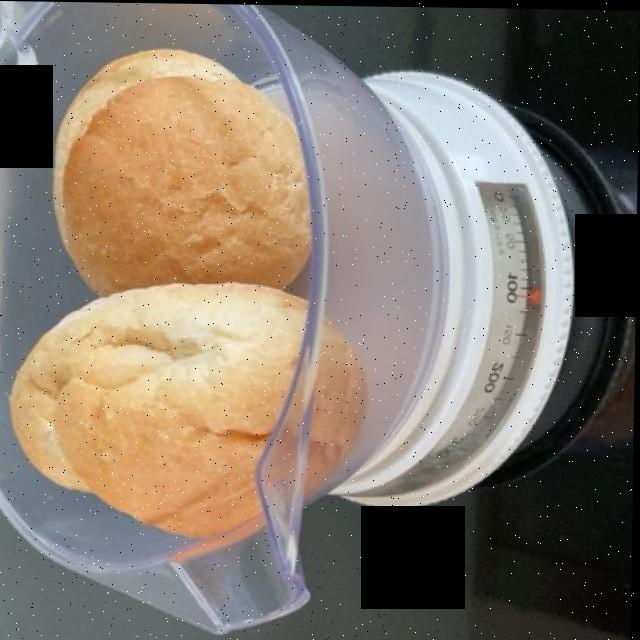bread: (16, 44, 350, 516)
